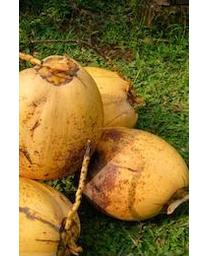coconut: (18, 55, 106, 181), (82, 126, 189, 221), (19, 177, 86, 255)
